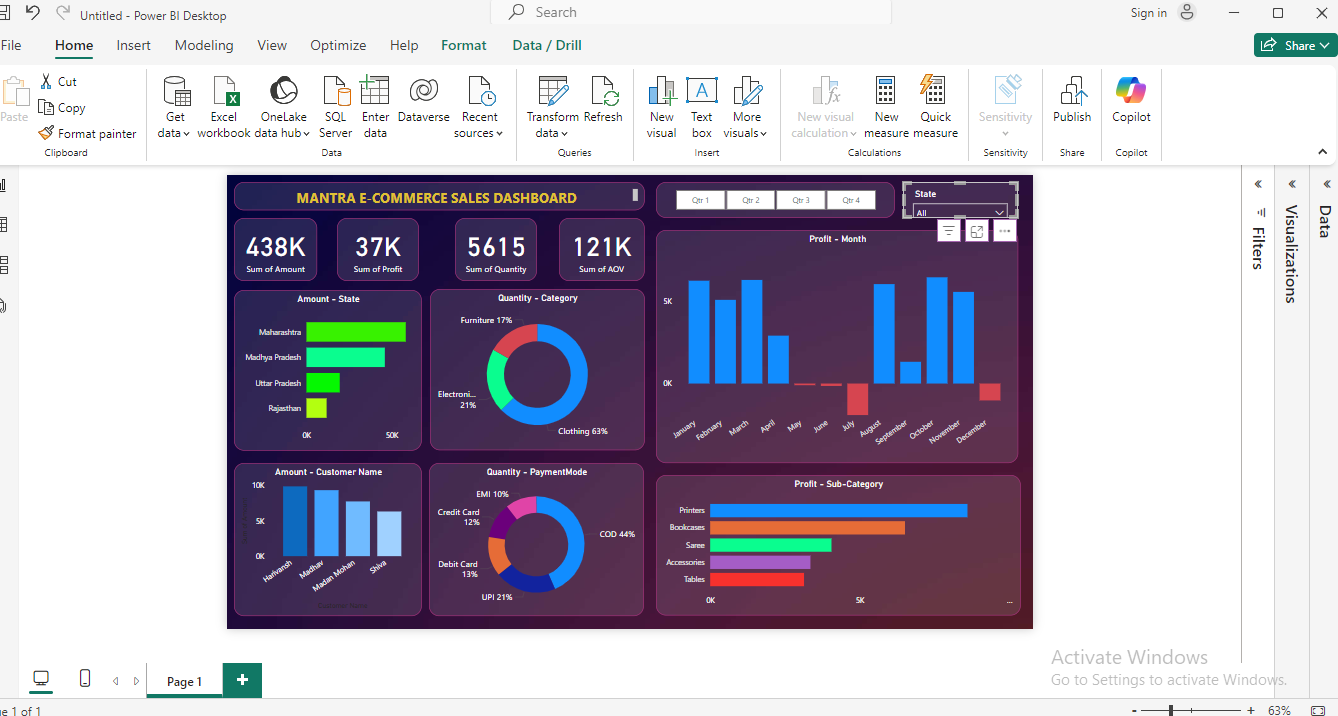

Layout of this report page (visuals, bound fields, positions):
{"tool":"powerbi","page":{"name":"Mantra Sales Dashboard","canvas":[1280,720],"ordinal":0},"visuals":[{"type":"textbox","box":[10.3,10.3,651.6,50.3],"z":0},{"type":"columnChart","title":"Profit - Month","fields":{"Category":["Orders.Order Date.Variation.Date Hierarchy.Month"],"Y":["Details.Profit"]},"box":[680,87.7,591,349.7],"z":1000},{"type":"barChart","title":"Profit - Sub-Category","fields":{"Category":["Details.Sub-Category"],"Y":["Details.Profit"]},"box":[680,446.5,591,264.5],"z":2000},{"type":"donutChart","title":"Quantity - Category","fields":{"Category":["Details.Category"],"Y":["Details.Quantity"]},"box":[362.6,181.9,300.6,255.5],"z":3000},{"type":"donutChart","title":"Quantity - PaymentMode","fields":{"Category":["Details.PaymentMode"],"Y":["Details.Quantity"]},"box":[362.6,446.5,300.6,264.5],"z":4000},{"type":"card","fields":{"Values":["Details.Amount"]},"box":[10.3,67.1,132.9,100.6],"z":5000},{"type":"card","fields":{"Values":["Details.Quantity"]},"box":[362.6,67.1,130.3,100.6],"z":6000},{"type":"card","fields":{"Values":["Details.Profit"]},"box":[175.5,67.1,130.3,100.6],"z":7000},{"type":"card","fields":{"Values":["Details.AOV"]},"box":[526.5,67.1,135.5,100.6],"z":8000},{"type":"barChart","title":"Amount - State","fields":{"Category":["Orders.State"],"Y":["Details.Amount"]},"box":[11.6,181.9,340.6,255.5],"z":9000},{"type":"columnChart","title":"Amount - Customer Name","fields":{"Category":["Orders.Customer Name"],"Y":["Details.Amount"]},"box":[11.6,446.5,340.6,264.5],"z":10000},{"type":"slicer","fields":{"Values":["Orders.Order Date.Variation.Date Hierarchy.Quarter"]},"box":[680.4,10.7,378.6,57.1],"z":11000},{"type":"slicer","fields":{"Values":["Orders.State"]},"box":[1073.2,10.7,182.1,57.1],"z":12000}]}

Visuals, with their boxes on the page's 1280x720 design canvas (x1, y1, x2, y2). These are canvas units, not pixel positions in the 1338x716 screenshot, which may show the page scaled, cropped or inside an application window:
textbox: (10,10,662,61)
"Profit - Month" columnChart: (680,88,1271,437)
"Profit - Sub-Category" barChart: (680,446,1271,711)
"Quantity - Category" donutChart: (363,182,663,437)
"Quantity - PaymentMode" donutChart: (363,446,663,711)
card - Details.Amount: (10,67,143,168)
card - Details.Quantity: (363,67,493,168)
card - Details.Profit: (176,67,306,168)
card - Details.AOV: (526,67,662,168)
"Amount - State" barChart: (12,182,352,437)
"Amount - Customer Name" columnChart: (12,446,352,711)
slicer - Orders.Order Date.Variation.Date Hierarchy.Quarter: (680,11,1059,68)
slicer - Orders.State: (1073,11,1255,68)
